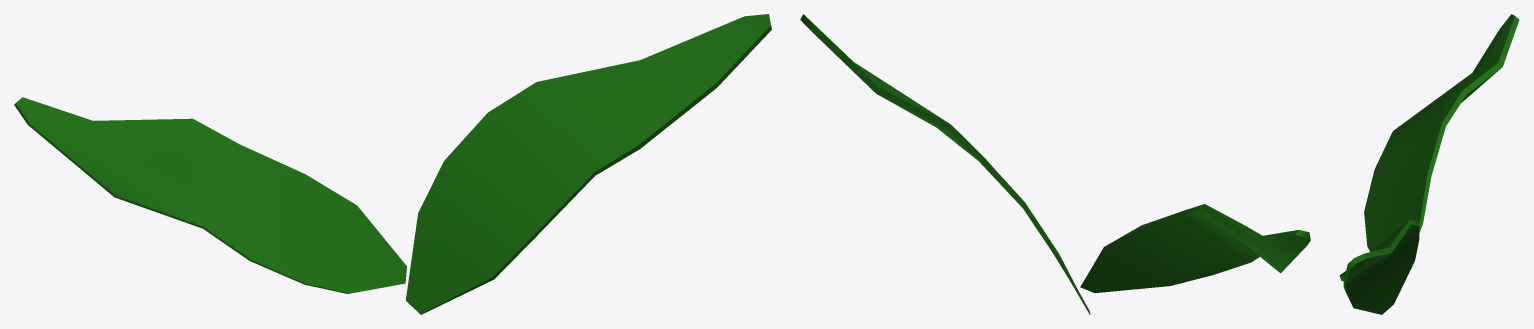
The model's file is leaves.obj.
The picture shows the model from 3 angles, left to right: view 1: azimuth 30°, elevation 25°; view 2: azimuth 150°, elevation 25°; view 3: azimuth 270°, elevation 25°; orthographic projection. The views are drawn at different scales.
Visible parts, largest first — view 1: leaves:polySurface1; view 2: leaves:polySurface1; view 3: leaves:polySurface1.
Boxes of the visible parts, <box> form: leaves:polySurface1: <box>14,14,771,314</box>; leaves:polySurface1: <box>800,14,1310,314</box>; leaves:polySurface1: <box>1339,14,1519,314</box>.
Size of the model in its own units: 4.17 by 1.43 by 1.28.
